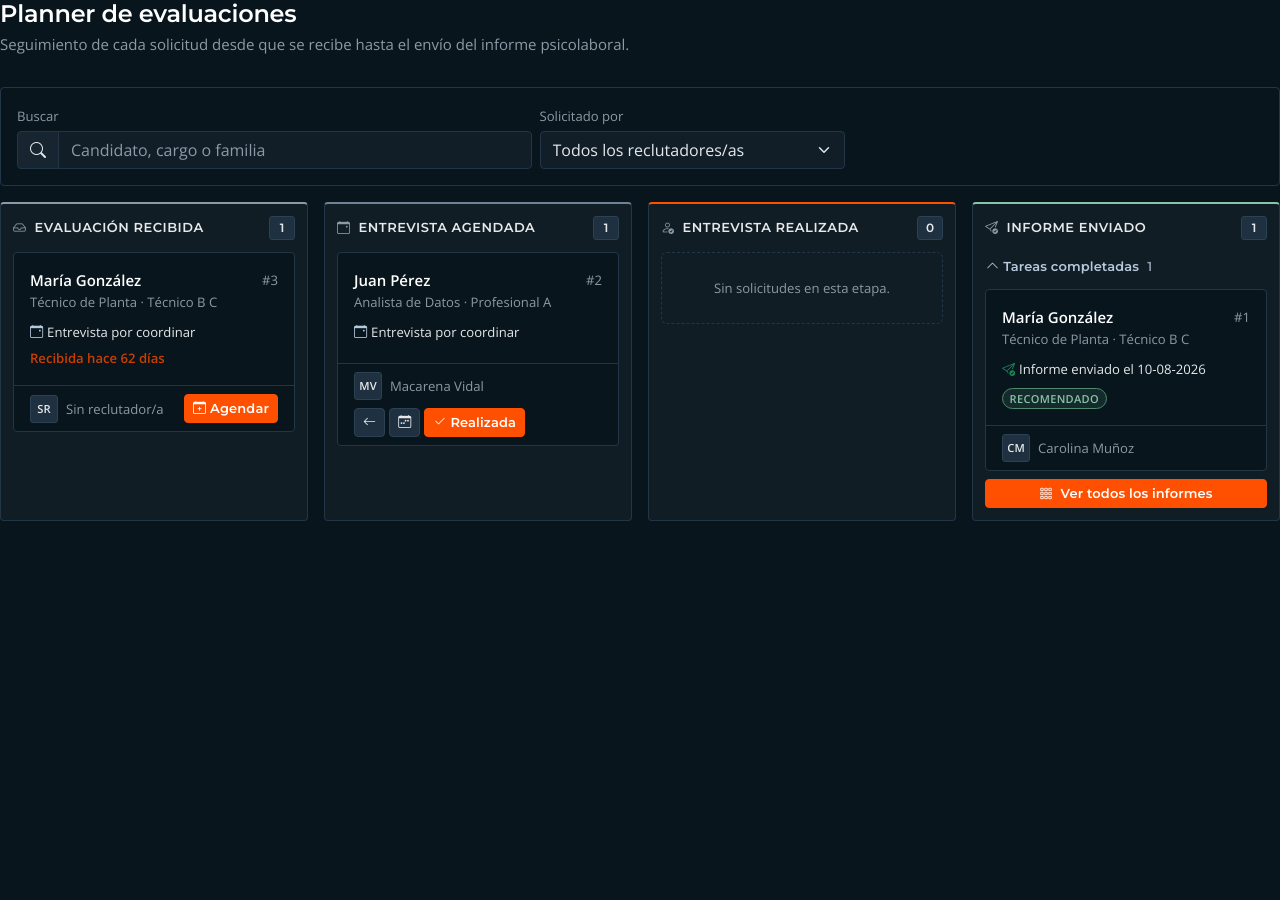
Scenario: Planner › cierra la ventana de agenda con Escape sin guardar
Click the button named "agendar entrevista de maría gonzález" at (231, 409), box [184,394,278,423]
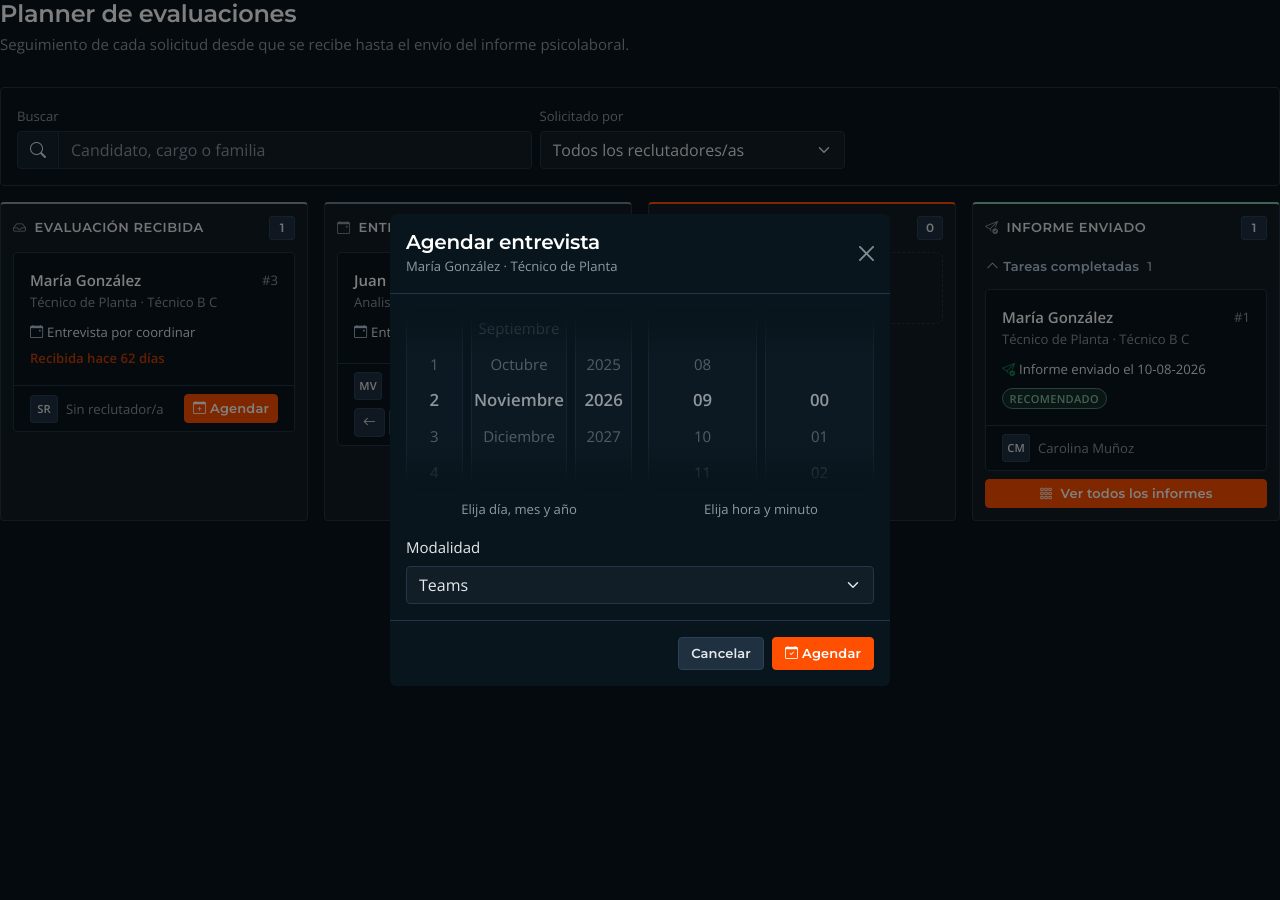
Press Escape
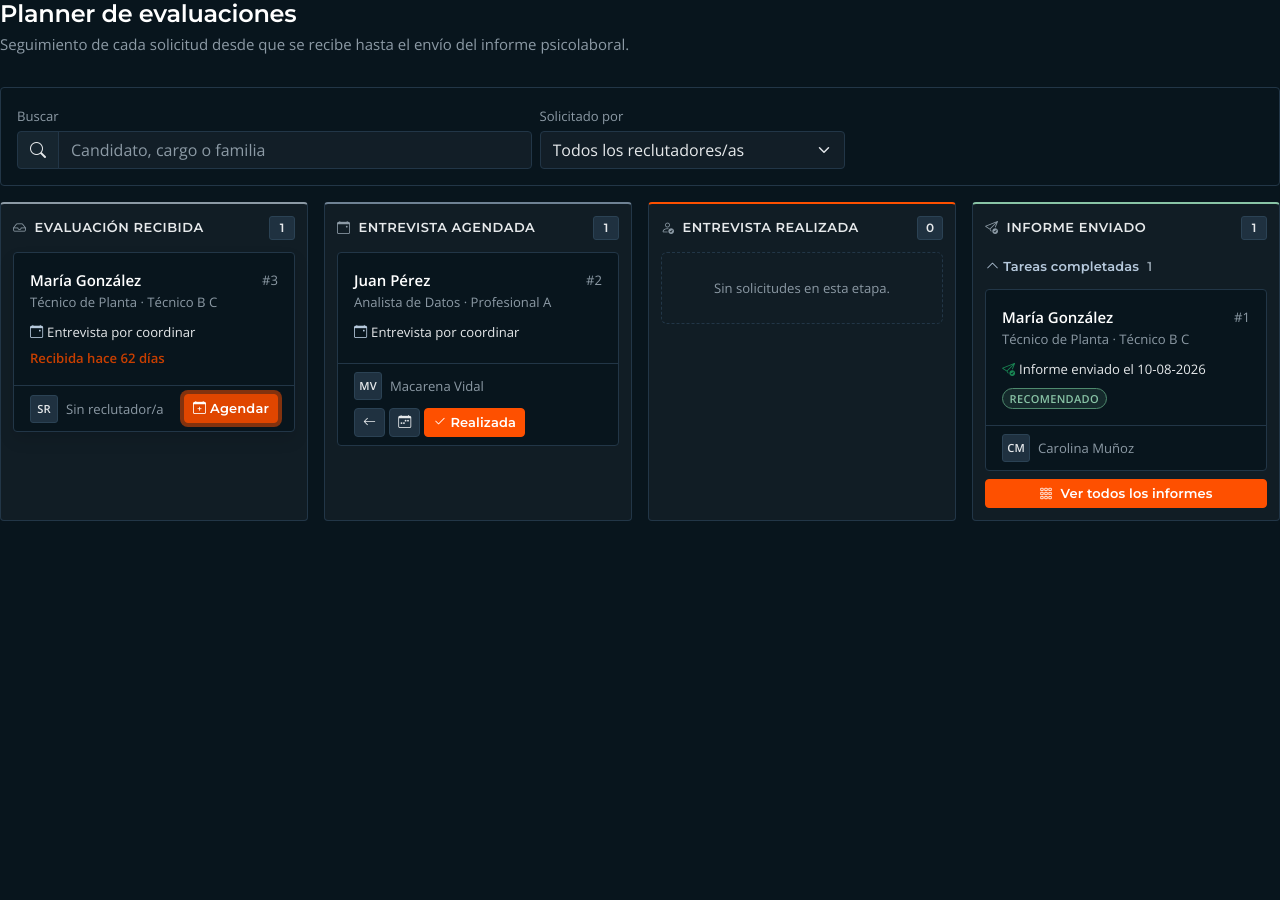
Expected: the link "María González" below "Evaluación Recibida" is shown, [30,269,141,291]
Expected: the dialog is gone
